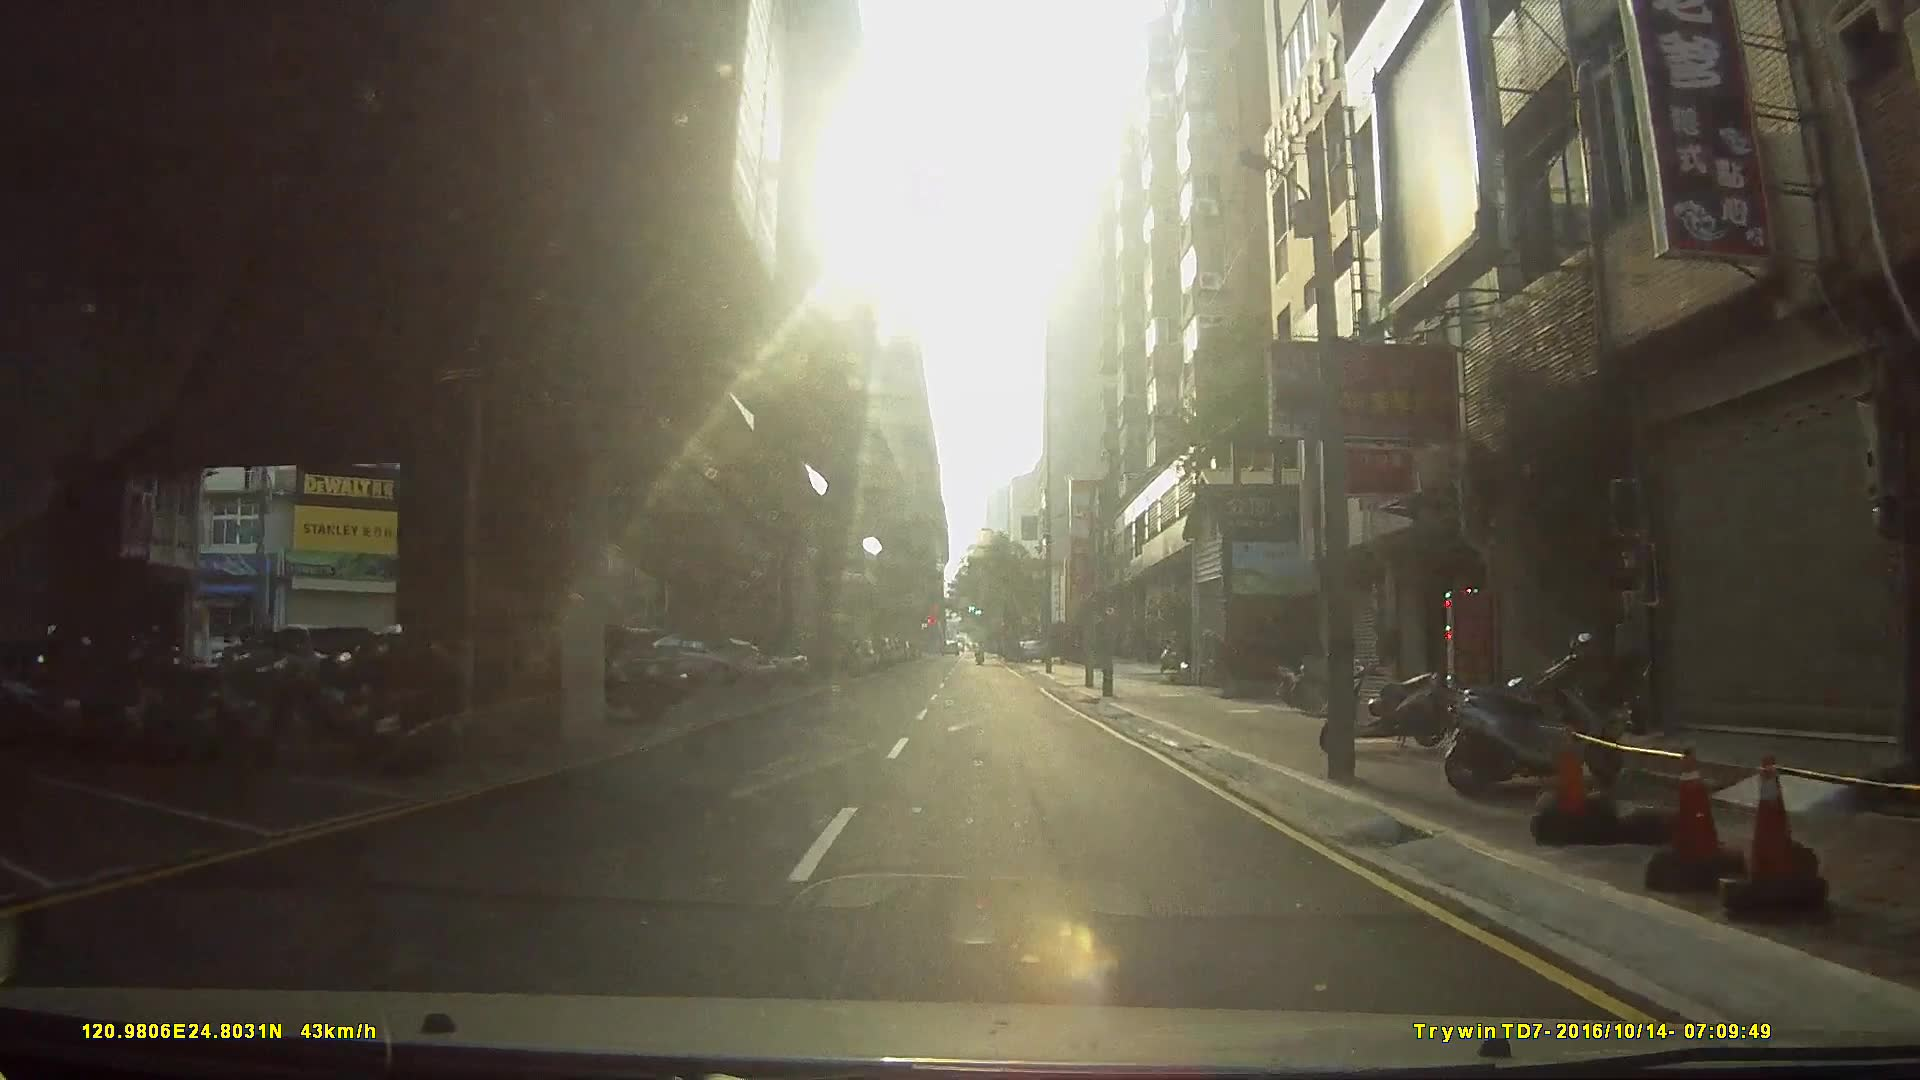vehicle: (516, 622, 690, 717), (638, 628, 781, 682)
